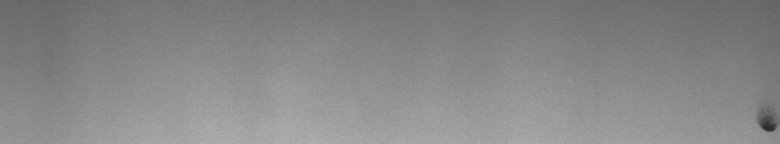fi: (752, 108, 776, 136)
